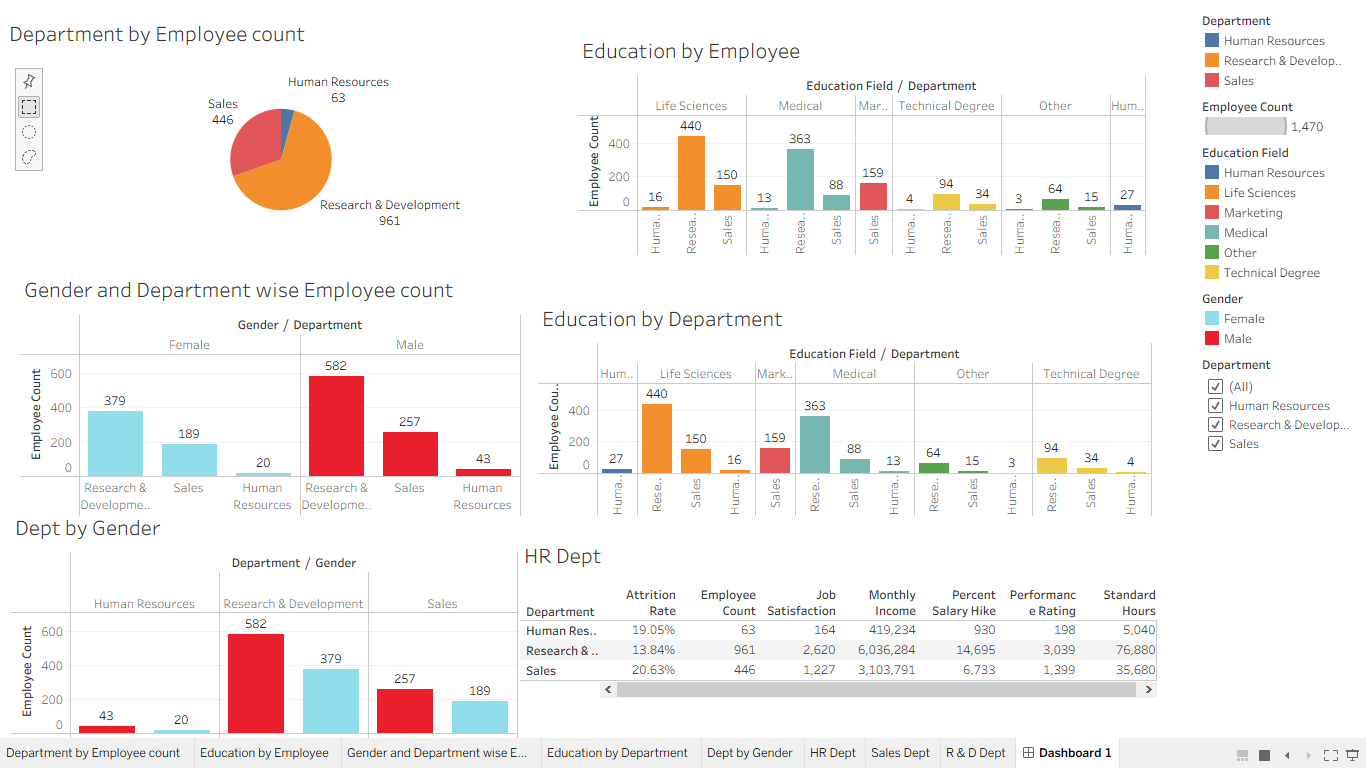

The dashboard page shown, as its layout file describes it:
{"tool":"tableau","page":{"name":"Dashboard 1","canvas":[1000,1000],"units":"permille","ordinal":0},"visuals":[{"type":"image","box":[6.9,13.5,847.6,973]},{"type":"legend","title":"Department by Employee count","param":"[federated.0myq4z80e03a6h1ckahm71eacpkf].[none:Department:nk]","box":[854.5,13.5,138.5,145.3]},{"type":"worksheet","title":"Department by Employee count","mark":"Pie","box":[3.5,20.3,404.3,332.8]},{"type":"worksheet","title":"Education by Employee","mark":"Automatic","rows":["EmployeeCount"],"cols":["EducationField","Department"],"box":[423.4,43.9,416.4,314.2]},{"type":"legend","title":"Department by Employee count","param":"[federated.0myq4z80e03a6h1ckahm71eacpkf].[sum:EmployeeCount:qk]","box":[854.5,158.8,138.5,77.7]},{"type":"legend","title":"Education by Employee","param":"[federated.0myq4z80e03a6h1ckahm71eacpkf].[none:EducationField:nk]","box":[854.5,236.5,138.5,246.6]},{"type":"worksheet","title":"Gender and Department wise Employee count","mark":"Automatic","rows":["EmployeeCount"],"cols":["Gender","Department"],"box":[14.7,366.6,367.1,332.8]},{"type":"worksheet","title":"Education by Department","mark":"Automatic","rows":["EmployeeCount"],"cols":["EducationField","Department"],"box":[393.9,407.1,449.4,295.6]},{"type":"legend","title":"Gender and Department wise Employee count","param":"[federated.0myq4z80e03a6h1ckahm71eacpkf].[none:Gender:nk]","box":[854.5,483.1,138.5,111.5]},{"type":"filter","title":"HR Dept","param":"[federated.0myq4z80e03a6h1ckahm71eacpkf].[none:Department:nk]","box":[854.5,594.6,138.5,182.4]}]}

Visuals, with their boxes on the dashboard's canvas, which has no fixed pixel size, in thousandths of its width and height (x1, y1, x2, y2). These are canvas units, not pixel positions in the 1366x768 screenshot, which may show the page scaled, cropped or inside an application window:
image: l=7, t=14, r=854, b=986
"Department by Employee count" legend: l=854, t=14, r=993, b=159
"Department by Employee count" worksheet (Pie marks): l=4, t=20, r=408, b=353
"Education by Employee" worksheet: l=423, t=44, r=840, b=358
"Department by Employee count" legend: l=854, t=159, r=993, b=236
"Education by Employee" legend: l=854, t=236, r=993, b=483
"Gender and Department wise Employee count" worksheet: l=15, t=367, r=382, b=699
"Education by Department" worksheet: l=394, t=407, r=843, b=703
"Gender and Department wise Employee count" legend: l=854, t=483, r=993, b=595
"HR Dept" filter: l=854, t=595, r=993, b=777
